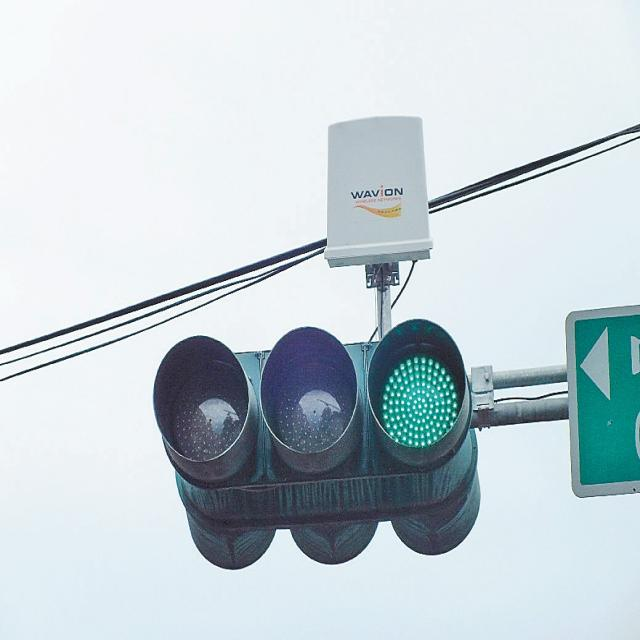green light: (154, 317, 483, 556)
